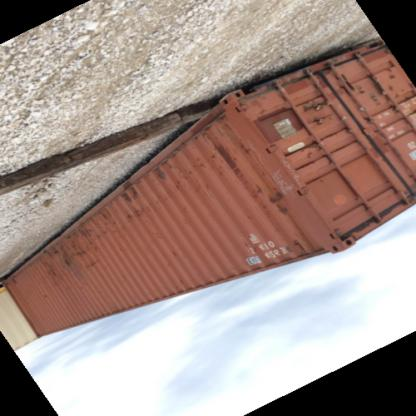Damage: (208, 138, 250, 190), (44, 244, 88, 286), (253, 184, 292, 214), (71, 214, 111, 240), (146, 163, 182, 189), (119, 186, 150, 214), (313, 66, 337, 99)
